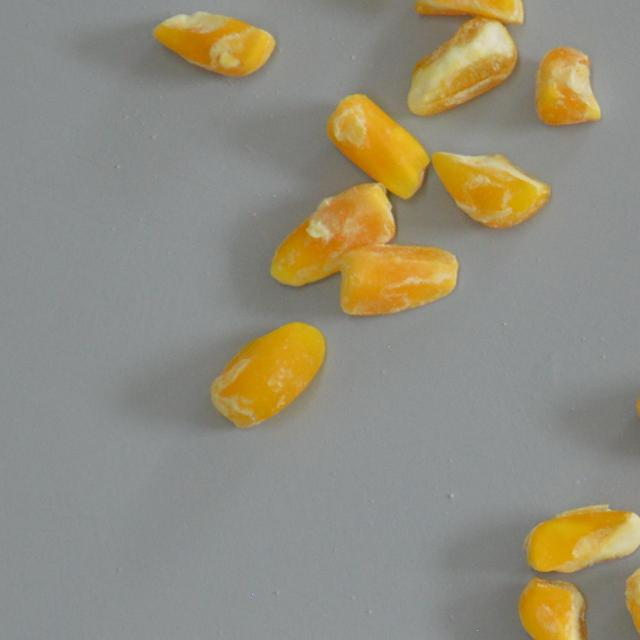pelicula: (271, 179, 400, 294), (328, 86, 428, 198), (408, 19, 518, 118), (230, 306, 308, 438), (450, 124, 526, 252), (359, 211, 434, 338), (520, 504, 640, 570), (527, 52, 614, 127), (182, 0, 242, 104), (514, 578, 592, 640), (438, 0, 510, 47), (618, 550, 640, 640)
